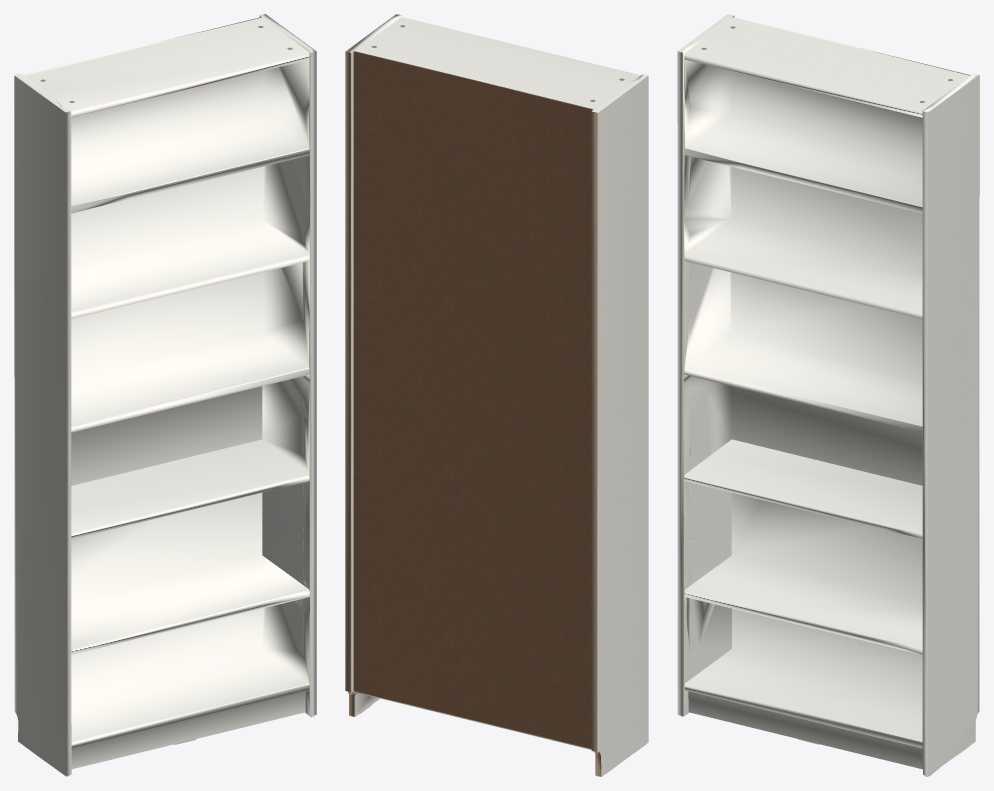
Rendered from BILLY bookcase - white.glb.
The picture shows the model from 3 angles, left to right: view 1: azimuth 30°, elevation 25°; view 2: azimuth 150°, elevation 25°; view 3: azimuth 330°, elevation 25°; orthographic projection.
Parts seen in each view (by area): view 1: ProcessedMeshNode; view 2: ProcessedMeshNode; view 3: ProcessedMeshNode.
Part boxes in pixels (x1,y1,x2,y2): ProcessedMeshNode: (14, 14, 316, 776); ProcessedMeshNode: (345, 14, 648, 776); ProcessedMeshNode: (677, 14, 979, 776).
Bounding box in the file's own units: 0.8012 × 2.03 × 0.2822.
2 materials, 2 textured.
